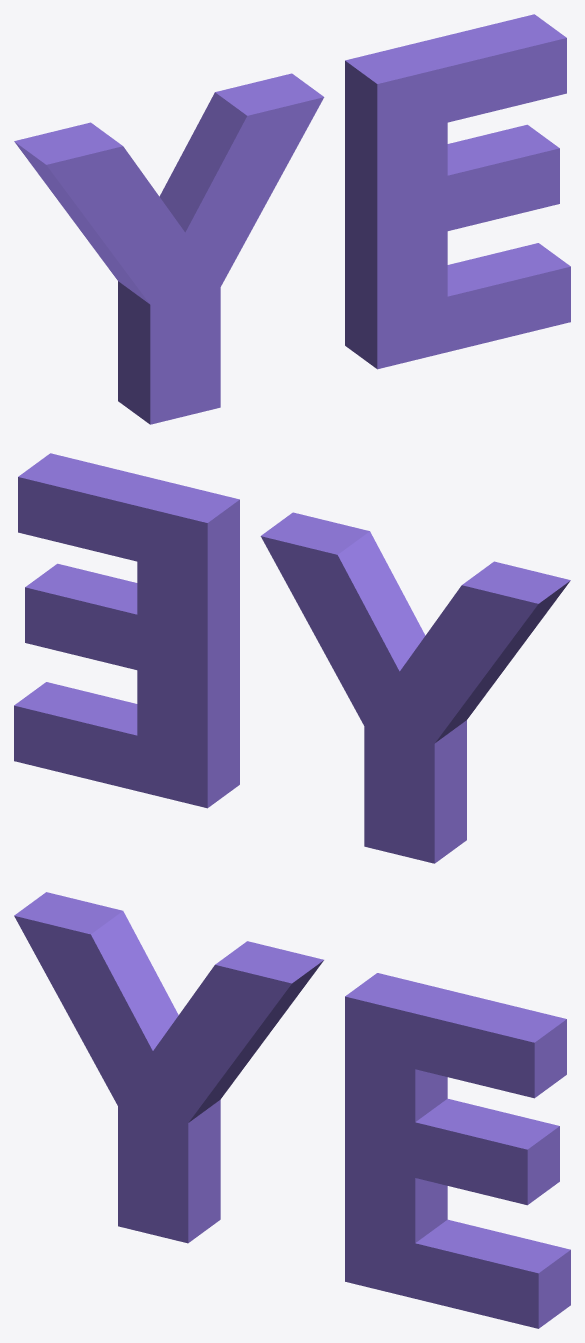
Rendered from suku_besar_ye.glb.
The picture shows the model from 3 angles, top to bottom: view 1: azimuth 30°, elevation 25°; view 2: azimuth 150°, elevation 25°; view 3: azimuth 330°, elevation 25°; orthographic projection.
Parts seen in each view (by area): view 1: geometry_0; view 2: geometry_0; view 3: geometry_0.
Boxes of the visible parts, x1=… form: geometry_0: x1=14, y1=14, x2=570, y2=424; geometry_0: x1=14, y1=453, x2=570, y2=863; geometry_0: x1=14, y1=892, x2=570, y2=1328.
Bounding box in the file's own units: 14.03 × 7.29 × 1.5.
